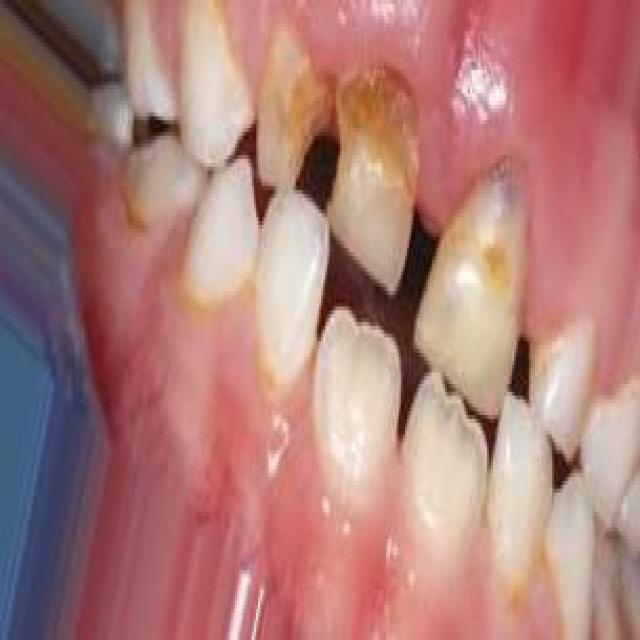caries: (325, 61, 428, 292), (254, 30, 326, 194)
